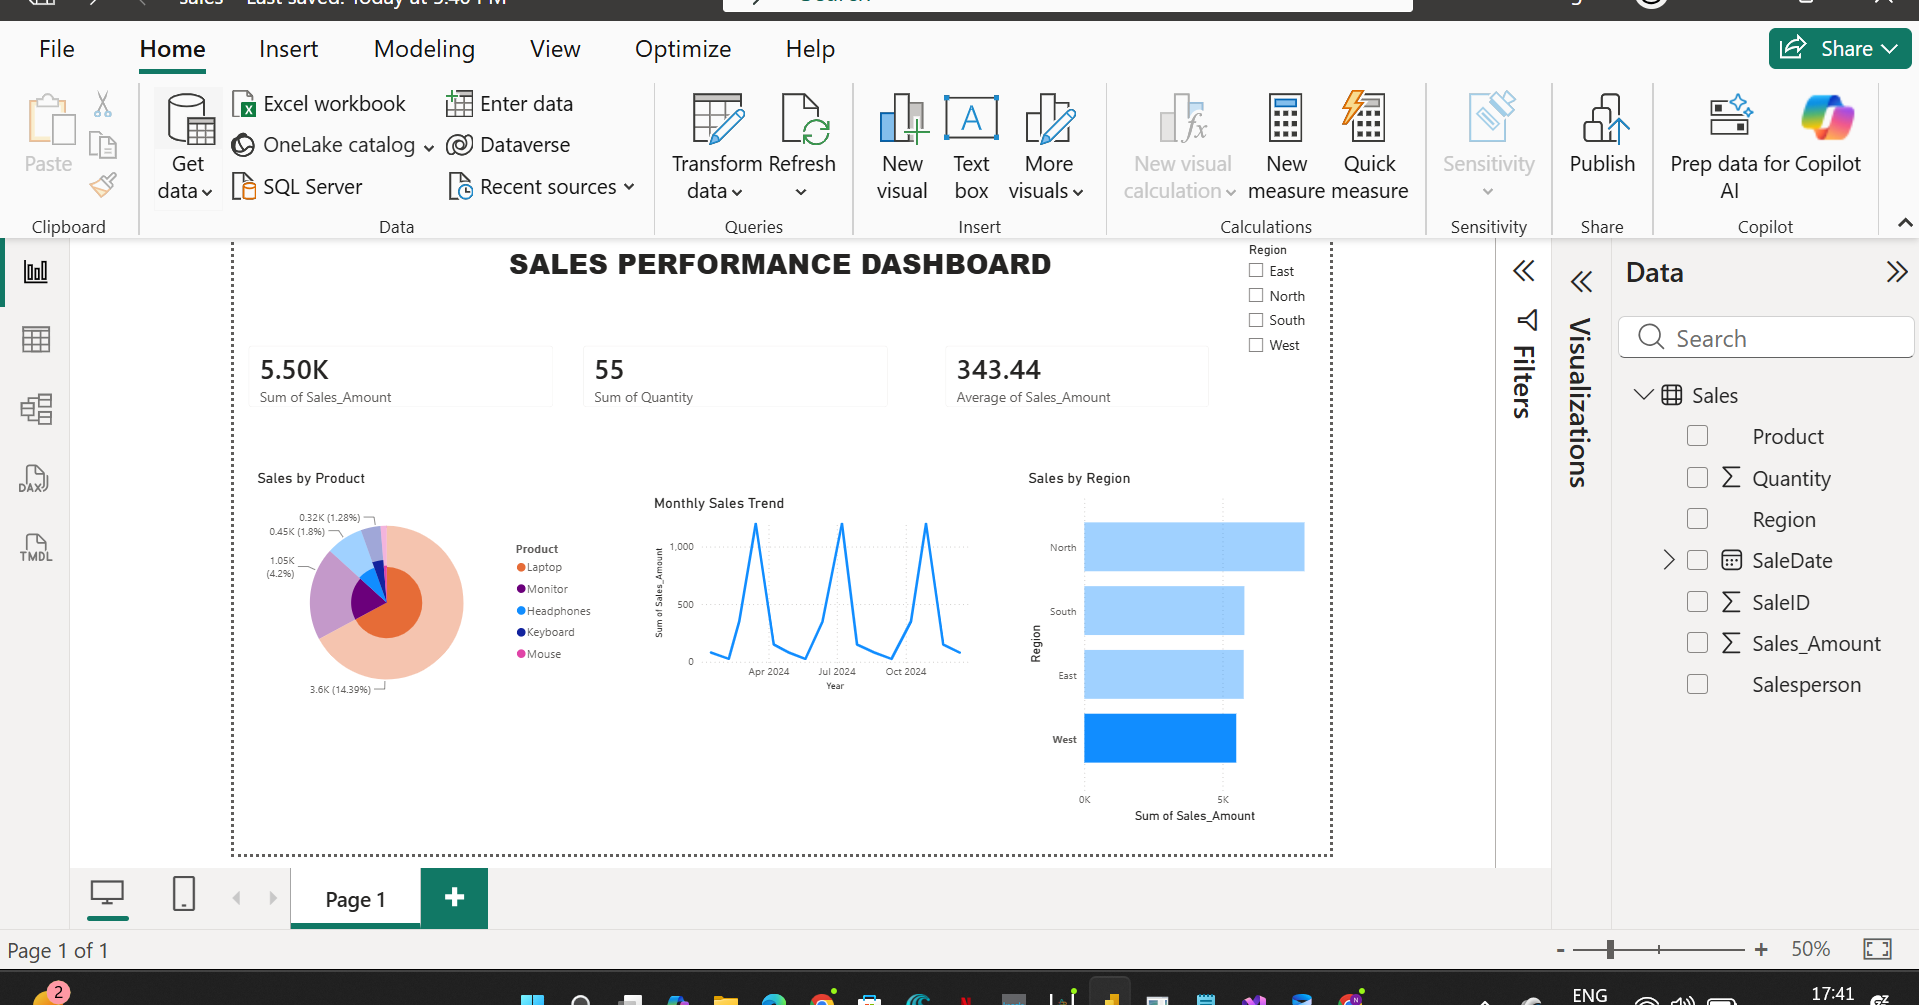

This screenshot's page, from the dashboard's own definition file:
{"tool":"powerbi","page":{"name":"Page 1","canvas":[1280,720],"ordinal":0},"visuals":[{"type":"lineChart","title":"Monthly Sales Trend","fields":{"Y":["Sum(Sales.Sales_Amount)"],"Category":["Sales.SaleDate.Variation.Date Hierarchy.Year","Sales.SaleDate.Variation.Date Hierarchy.Quarter","Sales.SaleDate.Variation.Date Hierarchy.Month","Sales.SaleDate.Variation.Date Hierarchy.Day"]},"box":[485.5,300.2,390.8,233.7],"z":0},{"type":"clusteredBarChart","title":"Sales by Region","fields":{"Category":["Sales.Region"],"Y":["Sum(Sales.Sales_Amount)"]},"box":[922.7,270,340.5,417],"z":1000},{"type":"pieChart","title":" Sales by Product","fields":{"Category":["Sales.Product"],"Y":["Sum(Sales.Sales_Amount)"]},"box":[22.2,270,409,292.1],"z":2000},{"type":"slicer","fields":{"Values":["Sales.Region"]},"box":[1172.5,0,106.8,145.1],"z":3000},{"type":"textbox","box":[316.3,2,650.7,70.5],"z":4000},{"type":"cardVisual","fields":{"Data":["Sum(Sales.Sales_Amount)"]},"box":[0,108.8,390.8,106.8],"z":5000},{"type":"cardVisual","fields":{"Data":["Sum(Sales.Quantity)"]},"box":[390.8,108.8,390.8,106.8],"z":6000},{"type":"cardVisual","fields":{"Data":["Avg(Sales.Sales_Amount)"]},"box":[813.9,108.8,342.5,106.8],"z":7000}]}

Visuals, with their boxes on the page's 1280x720 design canvas (x1, y1, x2, y2). These are canvas units, not pixel positions in the 1919x1005 screenshot, which may show the page scaled, cropped or inside an application window:
"Monthly Sales Trend" lineChart: <bbox>486, 300, 876, 534</bbox>
"Sales by Region" clusteredBarChart: <bbox>923, 270, 1263, 687</bbox>
" Sales by Product" pieChart: <bbox>22, 270, 431, 562</bbox>
slicer - Sales.Region: <bbox>1172, 0, 1279, 145</bbox>
textbox: <bbox>316, 2, 967, 72</bbox>
cardVisual - Sum(Sales.Sales_Amount): <bbox>0, 109, 391, 216</bbox>
cardVisual - Sum(Sales.Quantity): <bbox>391, 109, 782, 216</bbox>
cardVisual - Avg(Sales.Sales_Amount): <bbox>814, 109, 1156, 216</bbox>
